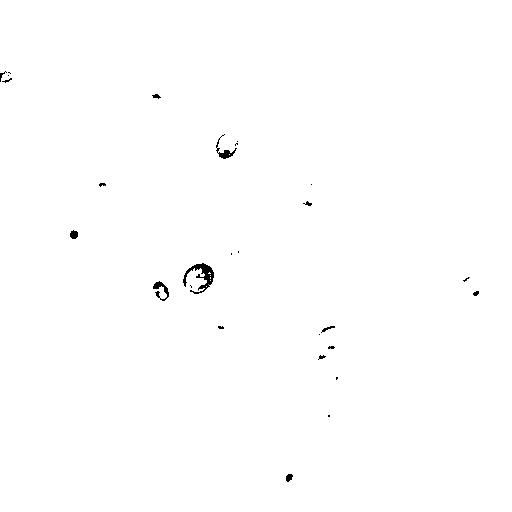micro-algae: (67, 148, 138, 219), (465, 81, 511, 143), (457, 313, 490, 355), (314, 323, 352, 355), (274, 457, 306, 494), (89, 172, 122, 206), (183, 262, 217, 295), (311, 353, 347, 384), (58, 217, 90, 251), (456, 275, 491, 306), (290, 178, 322, 207), (215, 131, 241, 159), (152, 280, 171, 301), (1, 67, 14, 84), (229, 245, 241, 261)
